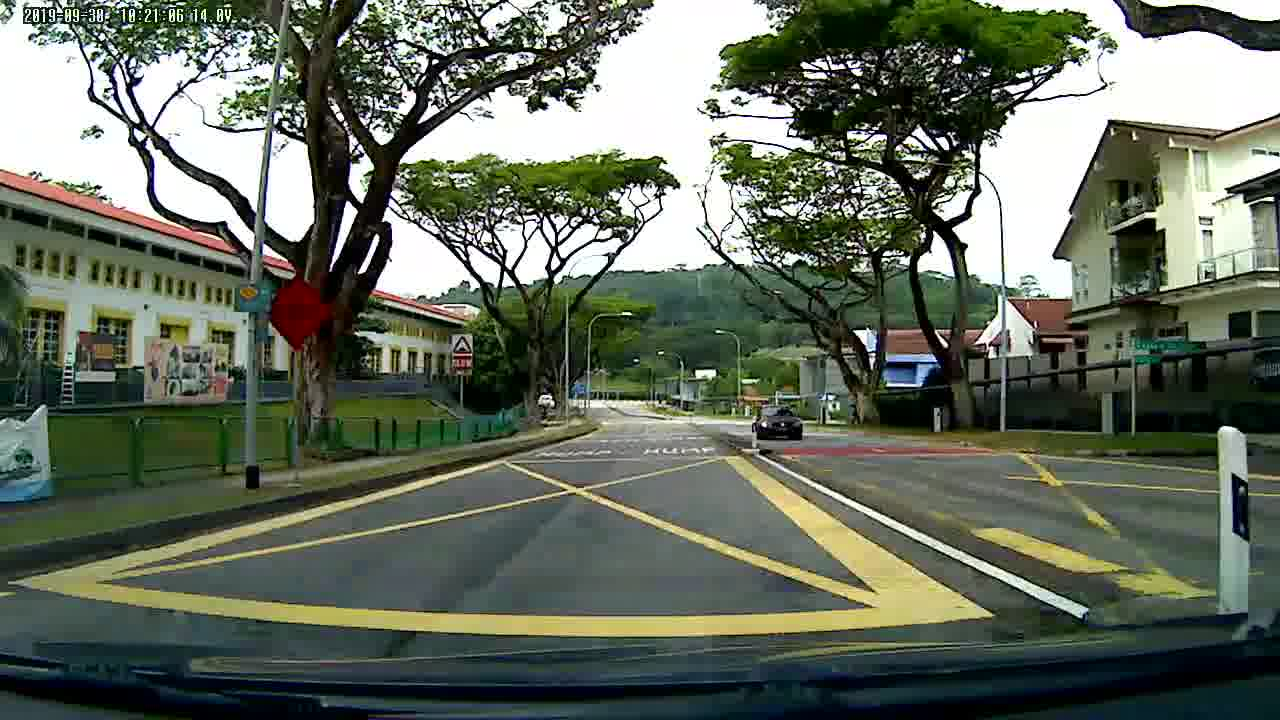car: (751, 404, 807, 440)
